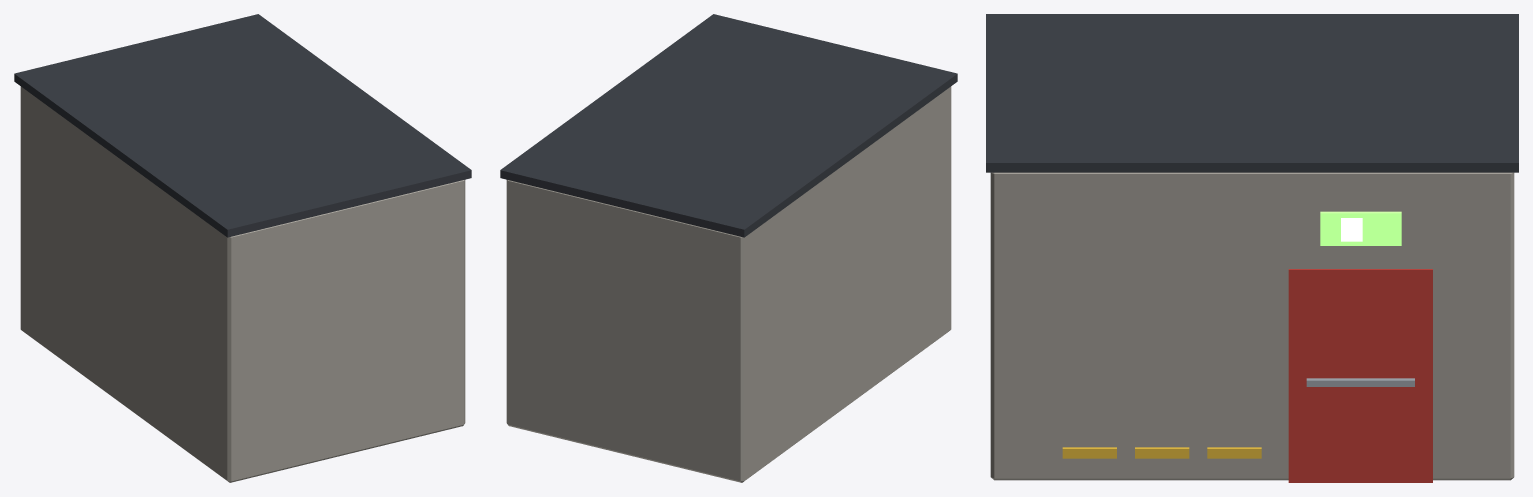
Rendered from stairwell.glb.
3 renders of one model, left to right at view 1: azimuth 30°, elevation 25°; view 2: azimuth 150°, elevation 25°; view 3: azimuth 270°, elevation 25°, orthographic. The views are drawn at different scales.
Parts seen in each view (by area): view 1: stairwell_mesh; view 2: stairwell_mesh; view 3: stairwell_mesh.
Part boxes in pixels (box(x1,y1,x2,y2)): stairwell_mesh: box(14, 14, 471, 482); stairwell_mesh: box(500, 14, 957, 482); stairwell_mesh: box(986, 14, 1518, 482).
Bounding box in the file's own units: 1.97 × 1.96 × 2.95.
